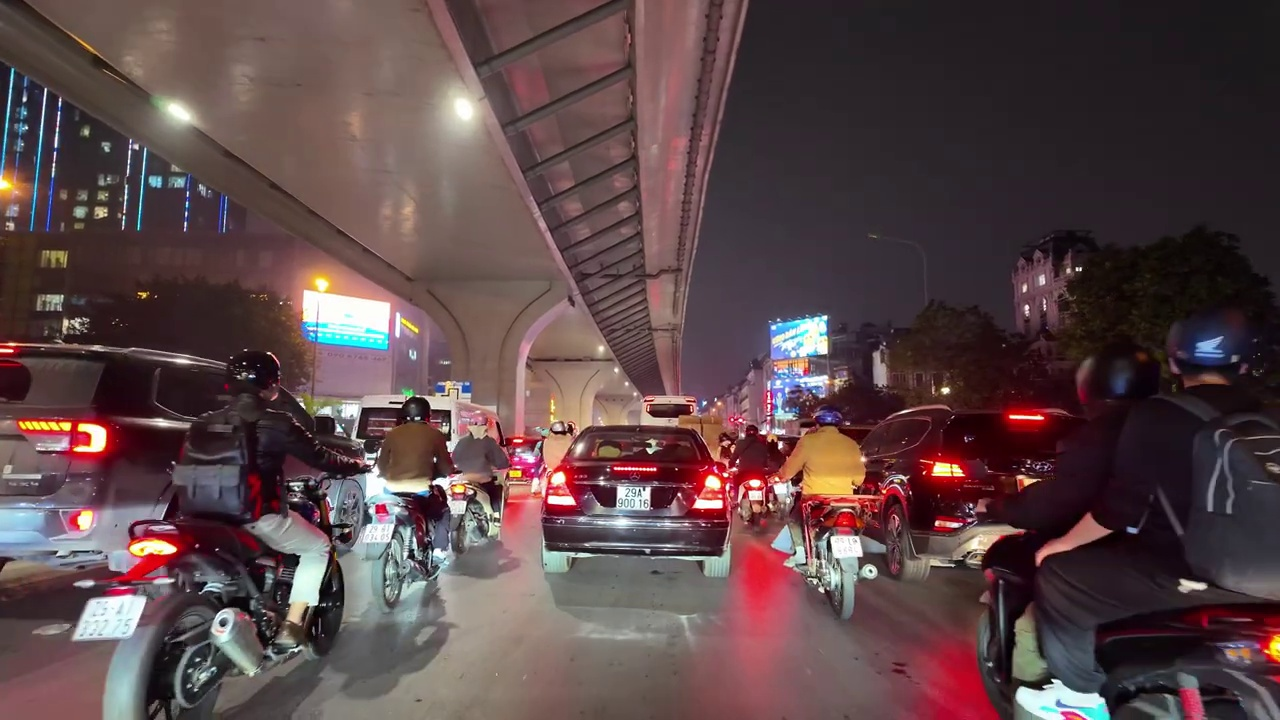acesa: (438, 89, 484, 136), (160, 98, 195, 128), (306, 273, 339, 298), (0, 171, 16, 201)
